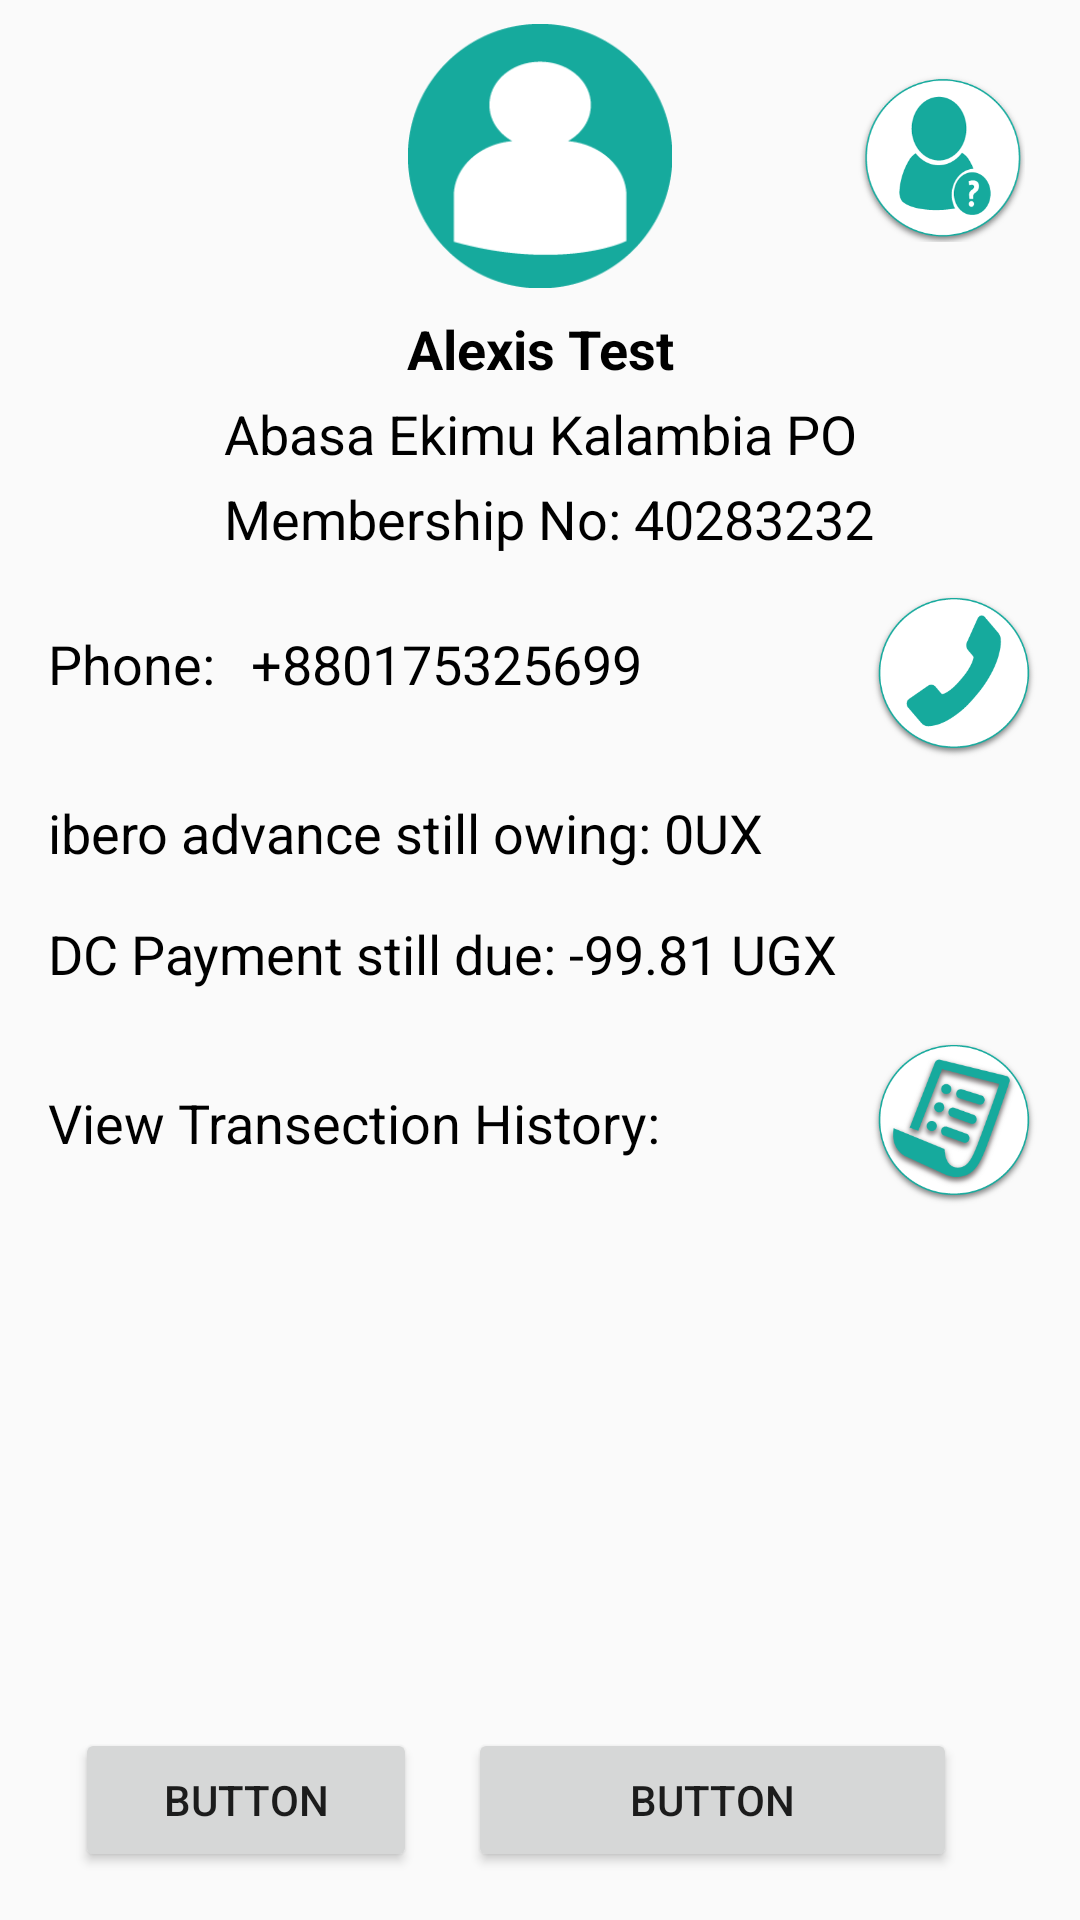

Where icons sit on this 1080px×1920px app screen, as (x1, y1, x2, y2):
phone: (876, 598, 1032, 754)
transaction: (876, 1045, 1032, 1201)
